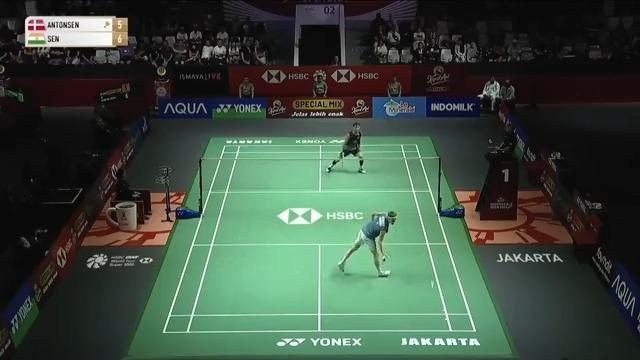Shuttlecock: (428, 279, 438, 287)
